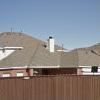Chimney: (39, 30, 62, 62)
